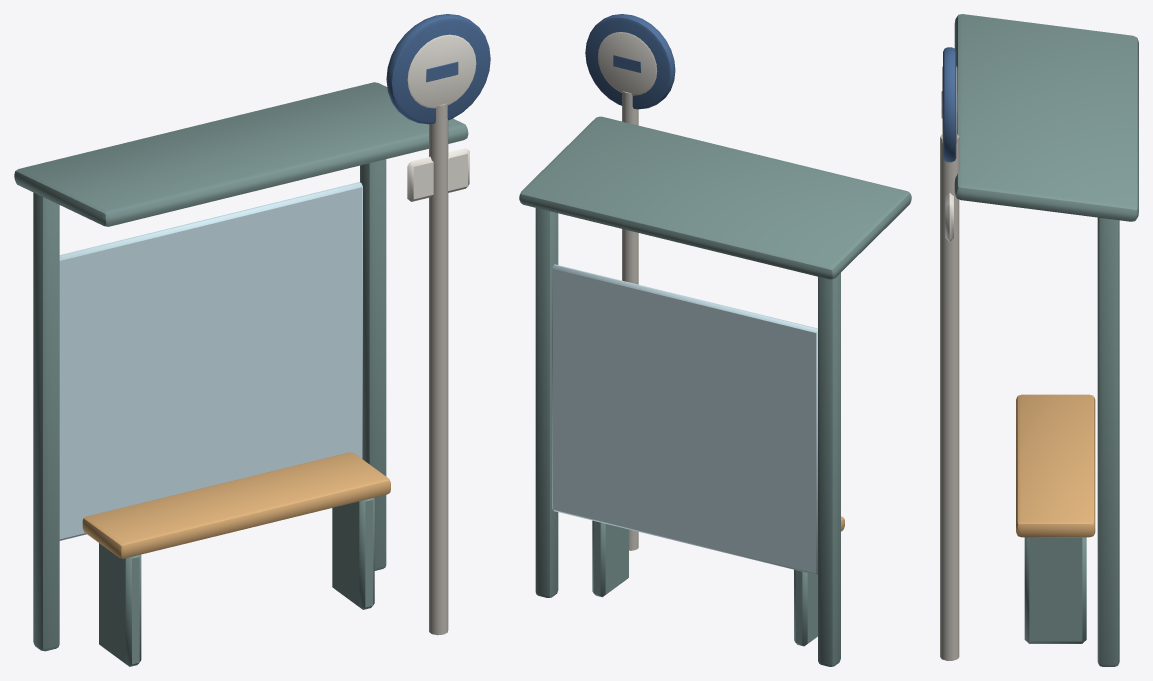
File: bus_stop.glb
The picture shows the model from 3 angles, left to right: view 1: azimuth 30°, elevation 25°; view 2: azimuth 150°, elevation 25°; view 3: azimuth 270°, elevation 25°; orthographic projection. The views are drawn at different scales.
Parts seen in each view (by area): view 1: glass, paint, pine, steel, sheet, sign_blue; view 2: glass, paint, sign_blue, sheet, steel; view 3: paint, pine, steel, sign_blue, sheet.
Part boxes in pixels (bbox=[...]): glass: bbox=[59, 182, 362, 540]; paint: bbox=[14, 82, 468, 666]; pine: bbox=[82, 452, 390, 558]; steel: bbox=[429, 103, 448, 635]; sheet: bbox=[407, 34, 476, 201]; sign_blue: bbox=[386, 14, 490, 124]; glass: bbox=[552, 264, 817, 575]; paint: bbox=[519, 116, 911, 666]; sign_blue: bbox=[585, 14, 675, 109]; sheet: bbox=[597, 32, 657, 95]; steel: bbox=[622, 91, 638, 550]; paint: bbox=[954, 14, 1138, 666]; pine: bbox=[1016, 394, 1095, 537]; steel: bbox=[940, 134, 959, 660]; sign_blue: bbox=[941, 47, 957, 162]; sheet: bbox=[942, 66, 957, 241].
Size of the model in its own units: 0.98 by 1.51 by 0.4507.
